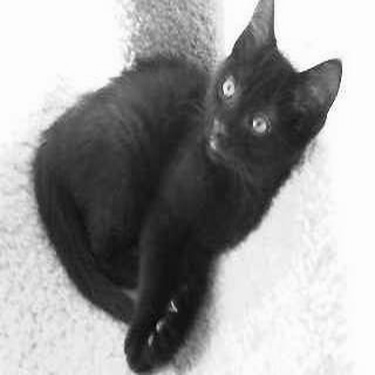cat: (21, 1, 323, 369)
